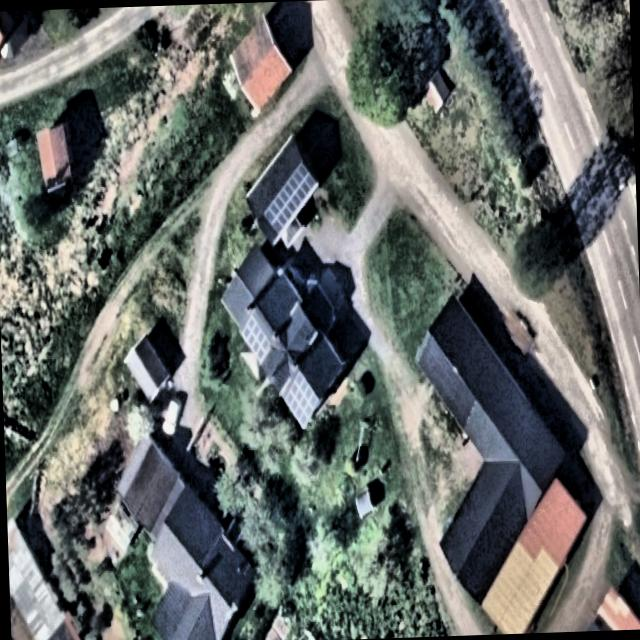roof_pv: (262, 158, 321, 235), (284, 371, 318, 429), (240, 315, 271, 364)
